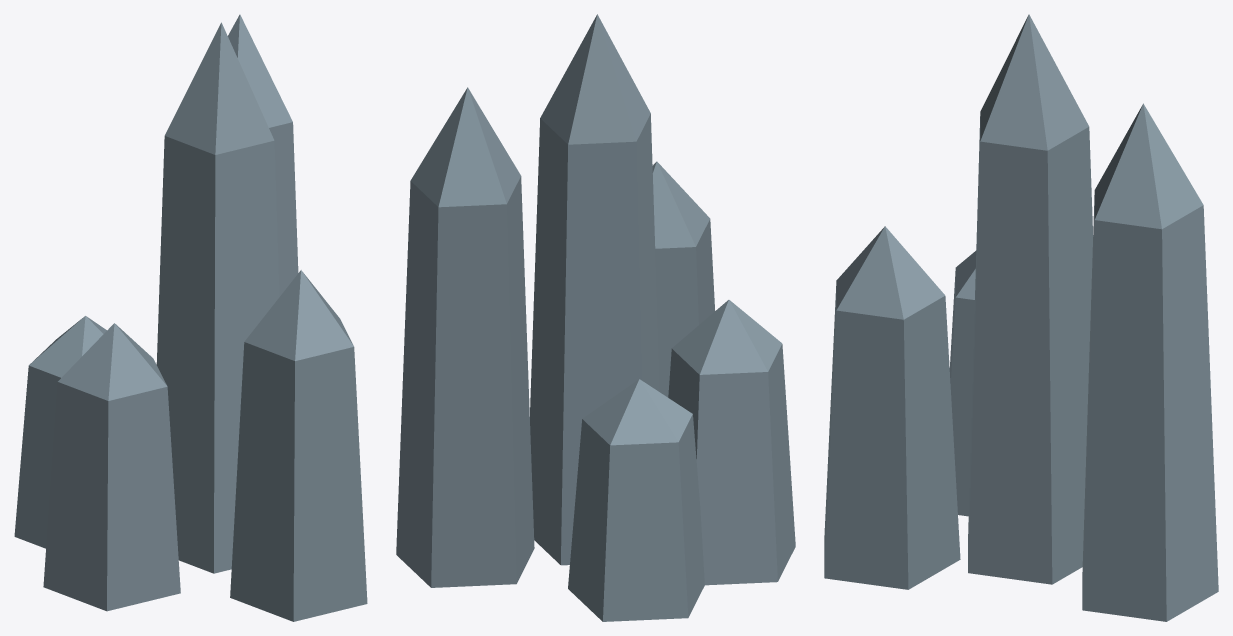
File: glacier-icicles-1.glb
The picture shows the model from 3 angles, left to right: view 1: azimuth 30°, elevation 25°; view 2: azimuth 150°, elevation 25°; view 3: azimuth 270°, elevation 25°; orthographic projection. The views are drawn at different scales.
Parts seen in each view (by area): view 1: glacier-icicles-1; view 2: glacier-icicles-1; view 3: glacier-icicles-1.
Part boxes in pixels (<box>): glacier-icicles-1: <box>14,14,367,621</box>; glacier-icicles-1: <box>396,14,795,621</box>; glacier-icicles-1: <box>824,14,1218,621</box>.
Size of the model in its own units: 0.5954 by 0.9497 by 0.6284.
